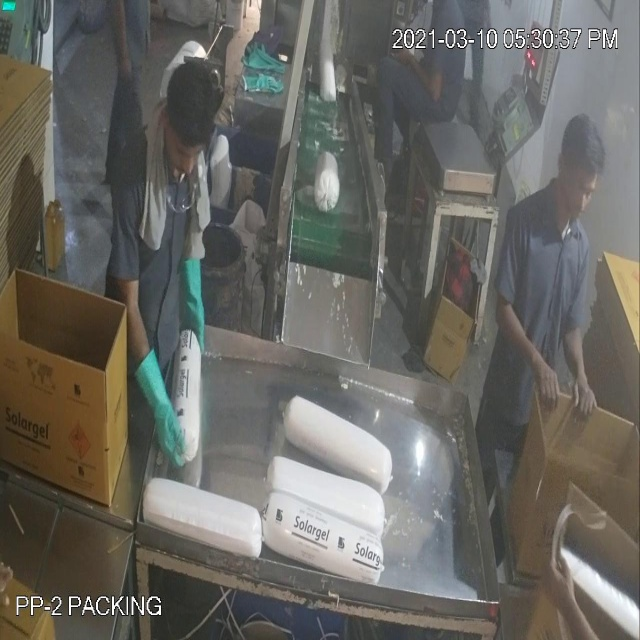Guantes: (133, 337, 191, 487), (172, 244, 213, 378)
Sin_guantes: (494, 284, 563, 420), (555, 307, 602, 433), (388, 42, 444, 115), (107, 1, 140, 89)
